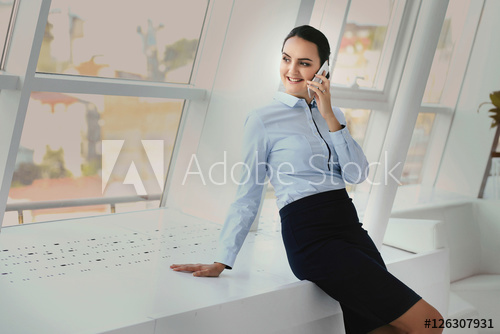phone: (306, 60, 333, 96)
talk: (276, 55, 343, 107)
